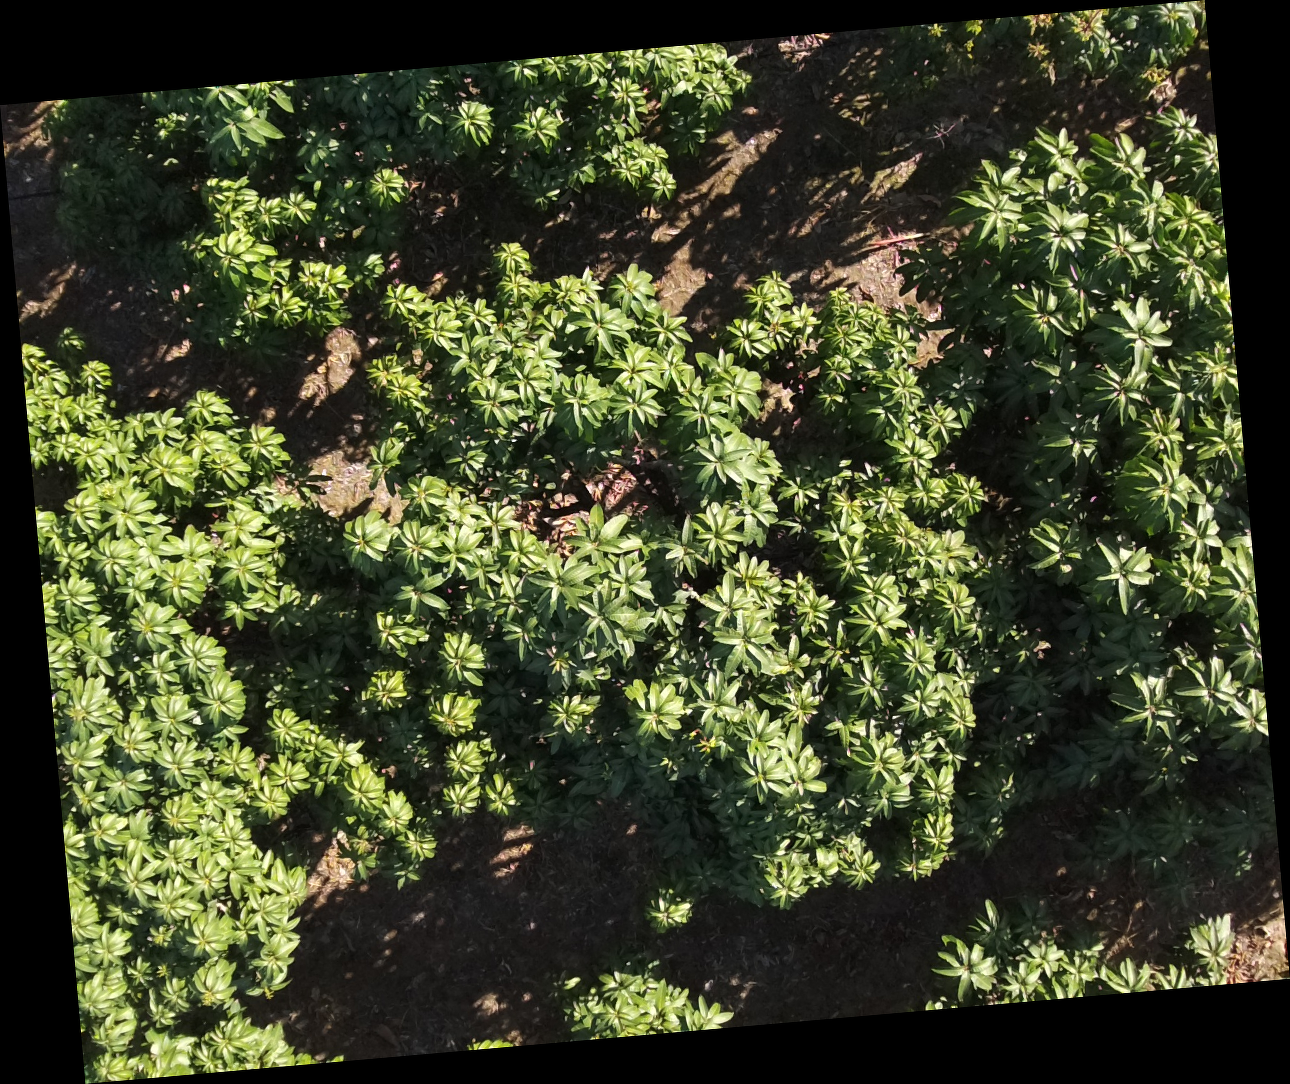flowers: (1070, 10, 1110, 47), (1027, 41, 1055, 85), (1022, 14, 1061, 40)
